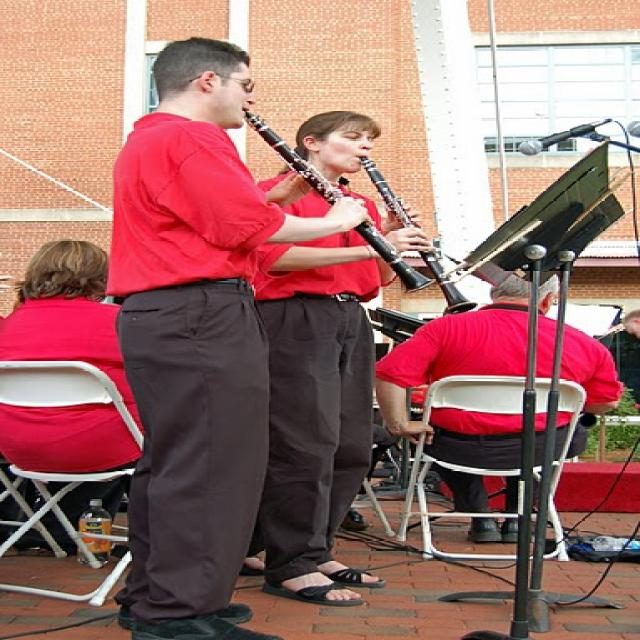clarinet: (241, 109, 436, 297), (360, 158, 478, 316)
